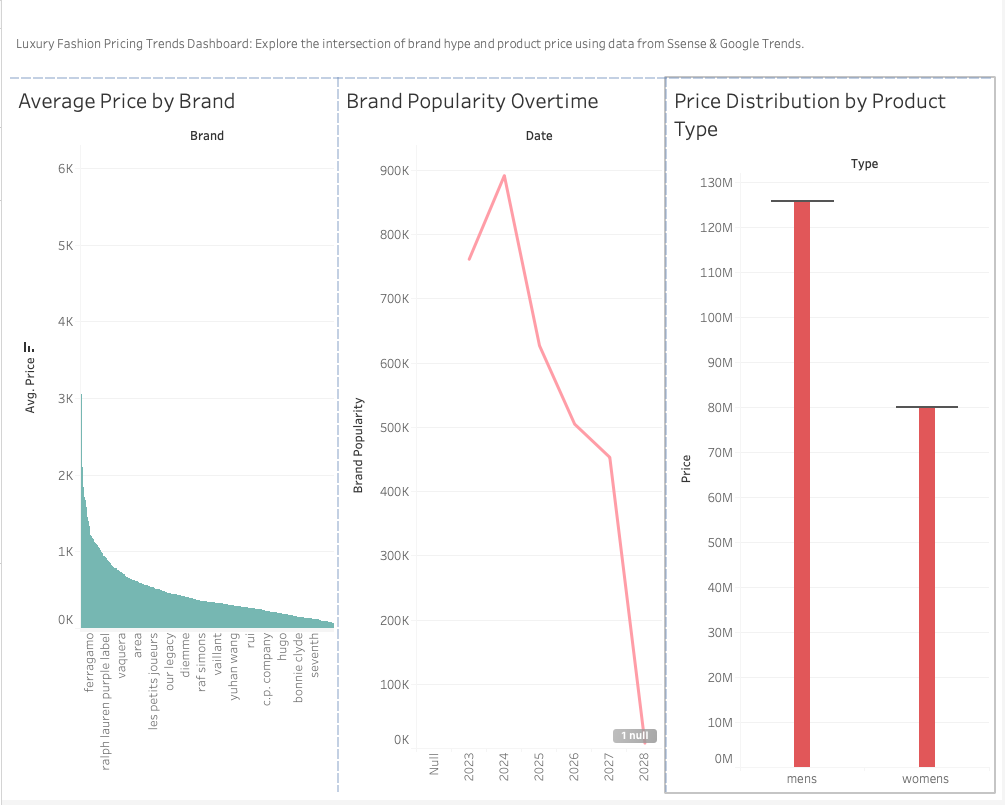

This screenshot's page, from the dashboard's own definition file:
{"tool":"tableau","page":{"name":"Dashboard 1","canvas":[1000,800],"ordinal":0},"visuals":[{"type":"text","box":[8,8,984,70]},{"type":"worksheet","title":"Sheet 1","mark":"Bar","rows":["price"],"cols":["brand"],"box":[8,78,328,714]},{"type":"worksheet","title":"Sheet 2","mark":"Automatic","rows":["brand_popularity"],"cols":["date"],"box":[336,78,328,714]},{"type":"worksheet","title":"Sheet 3","mark":"Automatic","rows":["price"],"cols":["type"],"box":[664,78,328,714]}]}

Visuals, with their boxes in screenshot pixels (x1, y1, x2, y2), scaled from the page's 1000x800 canvas onto the 1005x805 screenshot:
text: [8, 8, 997, 78]
"Sheet 1" worksheet (Bar marks): [8, 78, 338, 797]
"Sheet 2" worksheet: [338, 78, 667, 797]
"Sheet 3" worksheet: [667, 78, 997, 797]
